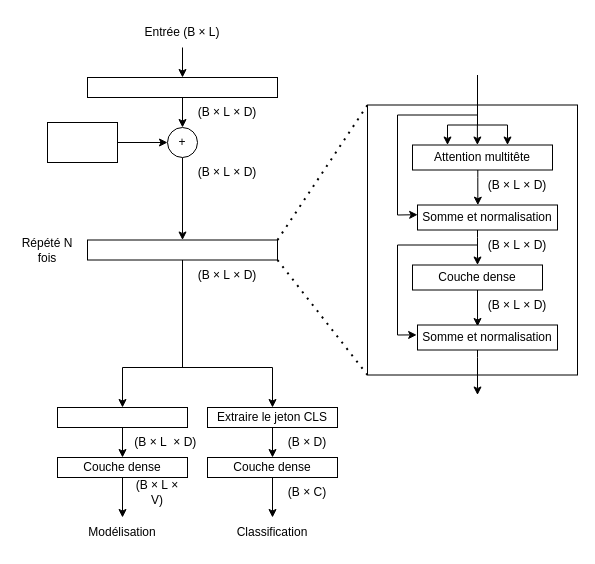
Some shapes in this 595 by 564 pixel diagram are drawn without their labels. The centre of each missing label's shape, as x and y in pixels:
Bloc encodeur: point 182,249
Encodage positionel: point 82,142
Exclure le jeton CLS: point 122,417
Plongement: point 182,87
